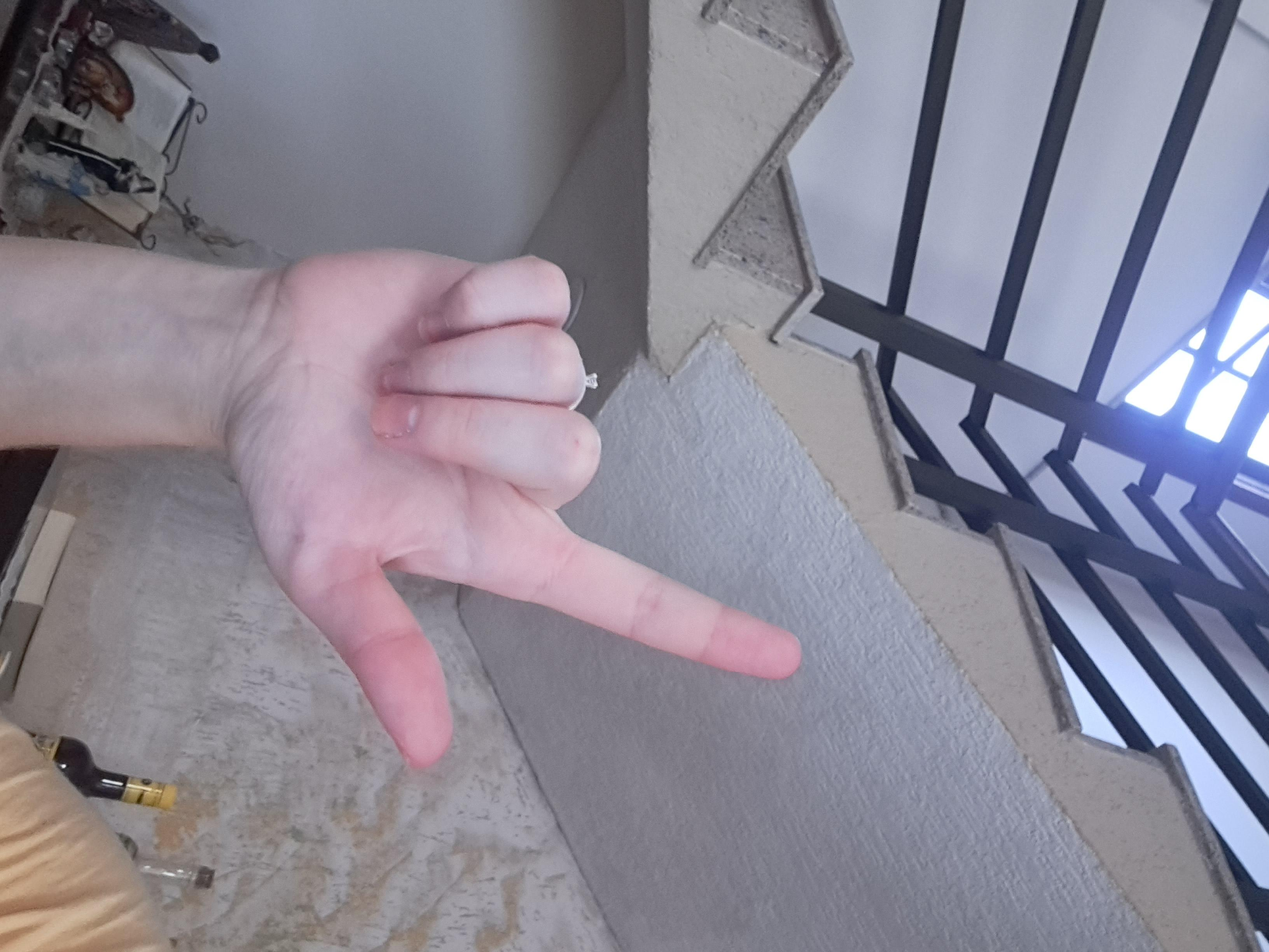L: (311, 309, 1037, 785)
